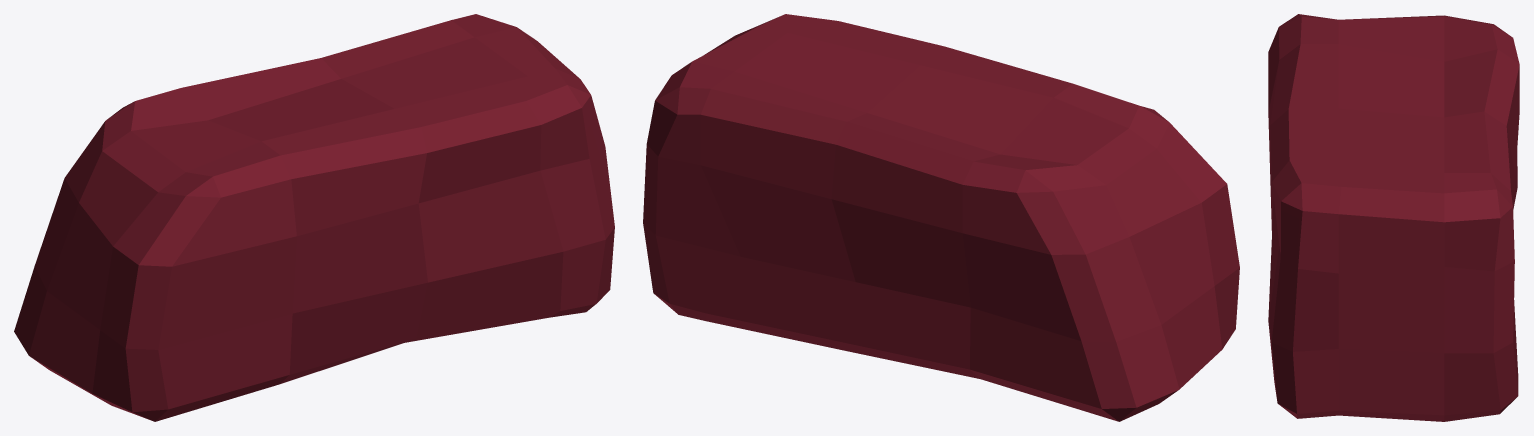
The model's file is bricks_003__msh.fbx.
3 views of the same model, side by side, from view 1: azimuth 30°, elevation 25°; view 2: azimuth 150°, elevation 25°; view 3: azimuth 270°, elevation 25° (orthographic).
Parts seen in each view (by area): view 1: bricks_003_ msh; view 2: bricks_003_ msh; view 3: bricks_003_ msh.
Part boxes in pixels (x1,y1,x2,y2): bricks_003_ msh: [14, 14, 614, 421]; bricks_003_ msh: [643, 14, 1239, 421]; bricks_003_ msh: [1268, 14, 1519, 421].
Bounding box in the file's own units: 70 × 30 × 30.
